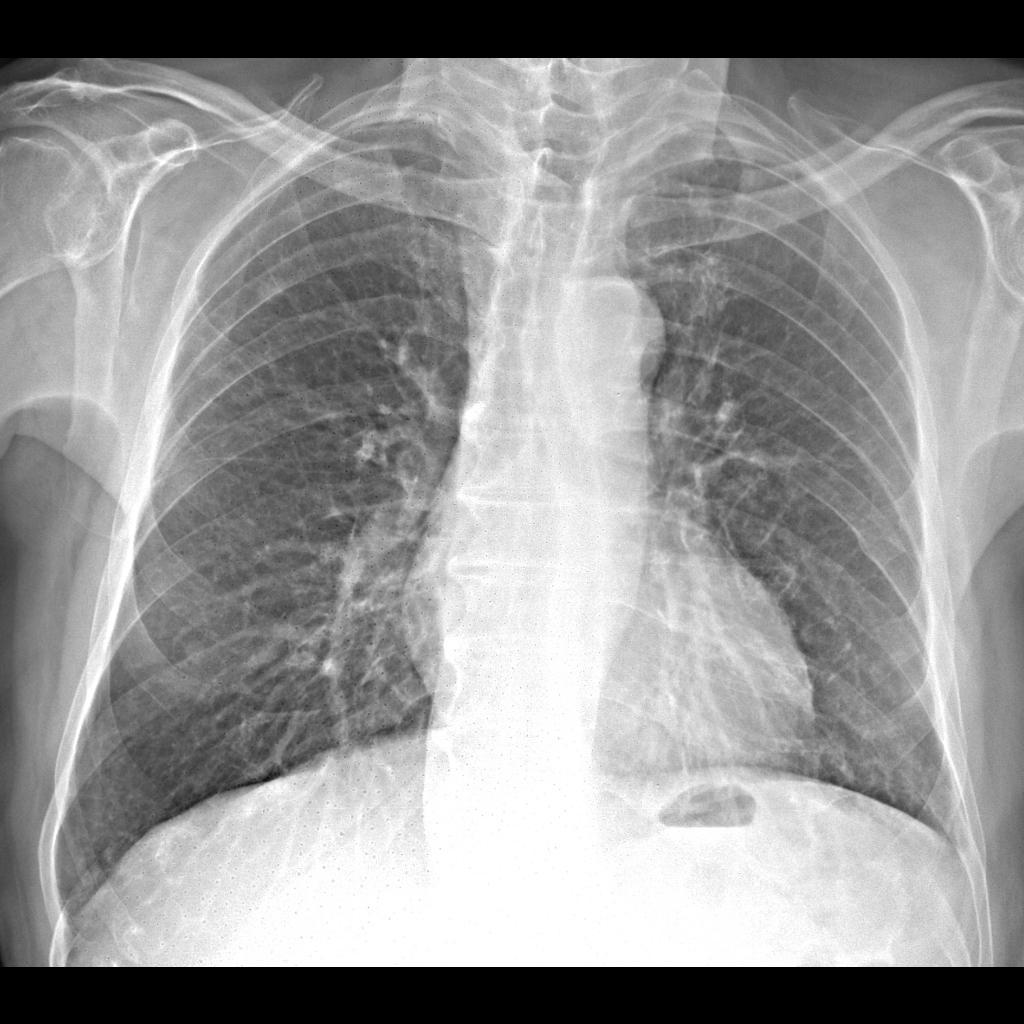Nodule: (254, 267, 296, 319)
